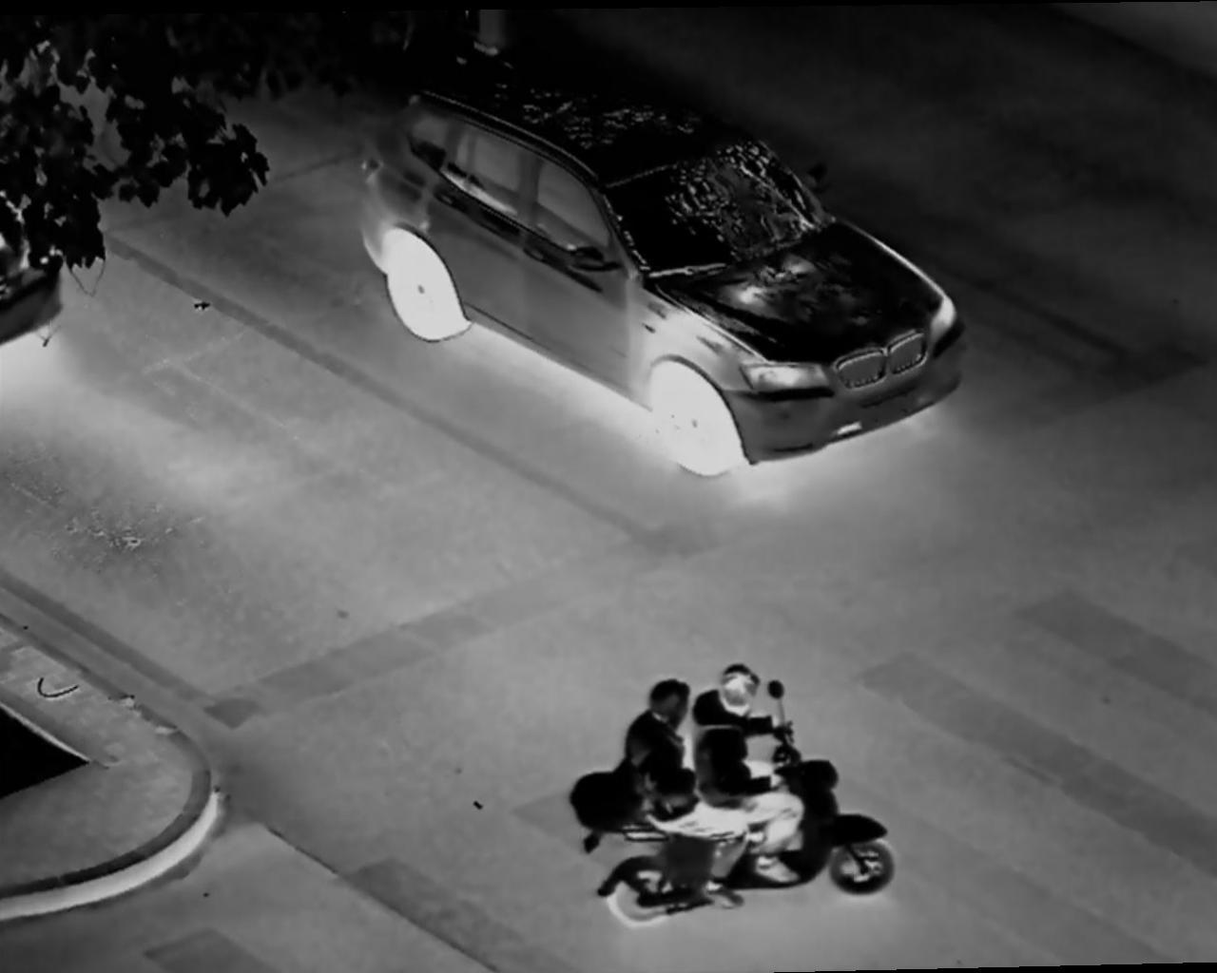person: (693, 661, 818, 875), (619, 673, 709, 912)
